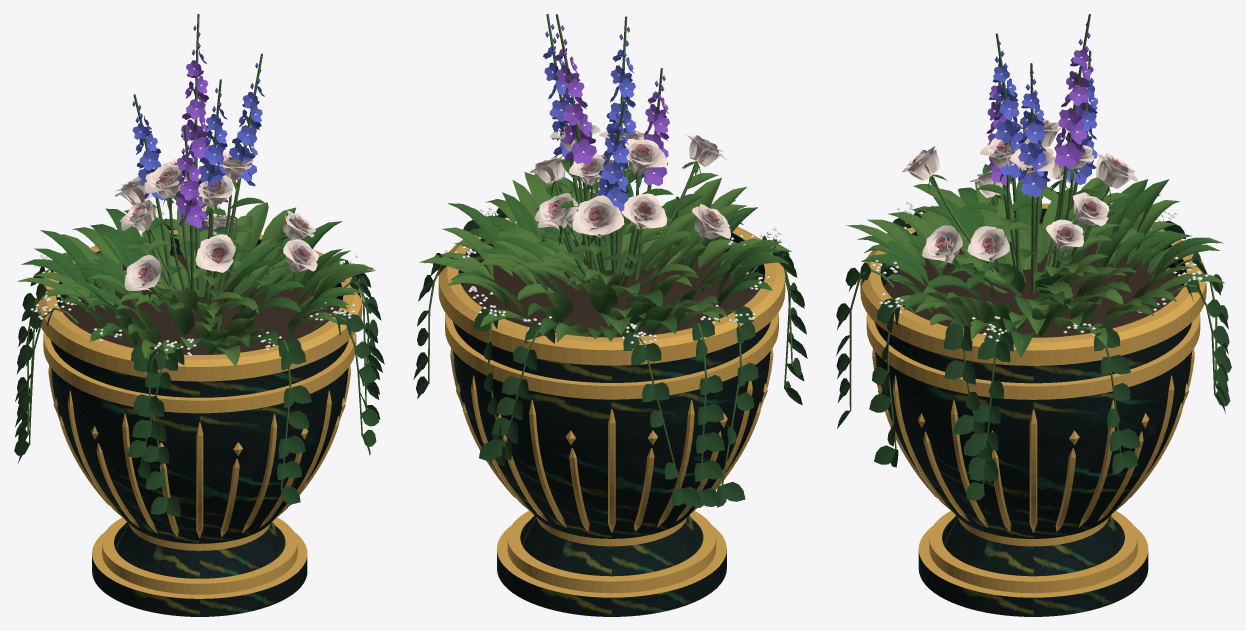
File: labradorite-flower-planter.glb
The picture shows the model from 3 angles, left to right: view 1: azimuth 30°, elevation 25°; view 2: azimuth 150°, elevation 25°; view 3: azimuth 270°, elevation 25°; orthographic projection. The views are drawn at different scales.
Parts seen in each view (by area): view 1: planter_lab, planter_gold, planter_l1, planter_l2, planter_ivy, planter_rout, planter_soil, planter_stem, planter_db, planter_dv, planter_rin, planter_aly; view 2: planter_lab, planter_gold, planter_l2, planter_l1, planter_ivy, planter_rout, planter_soil, planter_stem, planter_db, planter_dv, planter_aly, planter_rin; view 3: planter_lab, planter_gold, planter_l2, planter_l1, planter_ivy, planter_rout, planter_soil, planter_stem, planter_db, planter_dv, planter_aly, planter_rin.
Boxes of the visible parts, x1,y1,x2,y2 form: planter_lab: (50, 234, 348, 616); planter_gold: (37, 230, 362, 598); planter_l1: (21, 181, 355, 354); planter_l2: (17, 202, 375, 366); planter_ivy: (14, 218, 384, 516); planter_rout: (115, 151, 318, 291); planter_soil: (61, 254, 338, 354); planter_stem: (27, 14, 369, 498); planter_db: (132, 63, 264, 203); planter_dv: (175, 25, 209, 230); planter_rin: (128, 157, 311, 282); planter_aly: (30, 211, 358, 355); planter_lab: (453, 229, 770, 616); planter_gold: (438, 206, 785, 597); planter_l2: (419, 167, 791, 342); planter_l1: (447, 159, 789, 341); planter_ivy: (413, 193, 807, 508); planter_rout: (529, 122, 730, 239); planter_soil: (463, 237, 759, 337); planter_stem: (428, 14, 792, 491); planter_db: (543, 24, 636, 211); planter_dv: (554, 25, 669, 185); planter_aly: (445, 184, 782, 343); planter_rin: (548, 125, 719, 228); planter_lab: (874, 208, 1192, 616); planter_gold: (860, 203, 1206, 597); planter_l2: (846, 177, 1224, 346); planter_l1: (857, 164, 1219, 357); planter_ivy: (836, 192, 1231, 500); planter_rout: (902, 119, 1137, 262); planter_soil: (885, 242, 1181, 337); planter_stem: (849, 14, 1217, 485); planter_db: (992, 41, 1098, 197); planter_dv: (986, 22, 1091, 185); planter_aly: (871, 185, 1208, 341); planter_rin: (912, 122, 1125, 256).
Bounding box in the file's own units: 0.9077 × 1.47 × 0.9304.
Materials: 13 (1 with a texture image).
